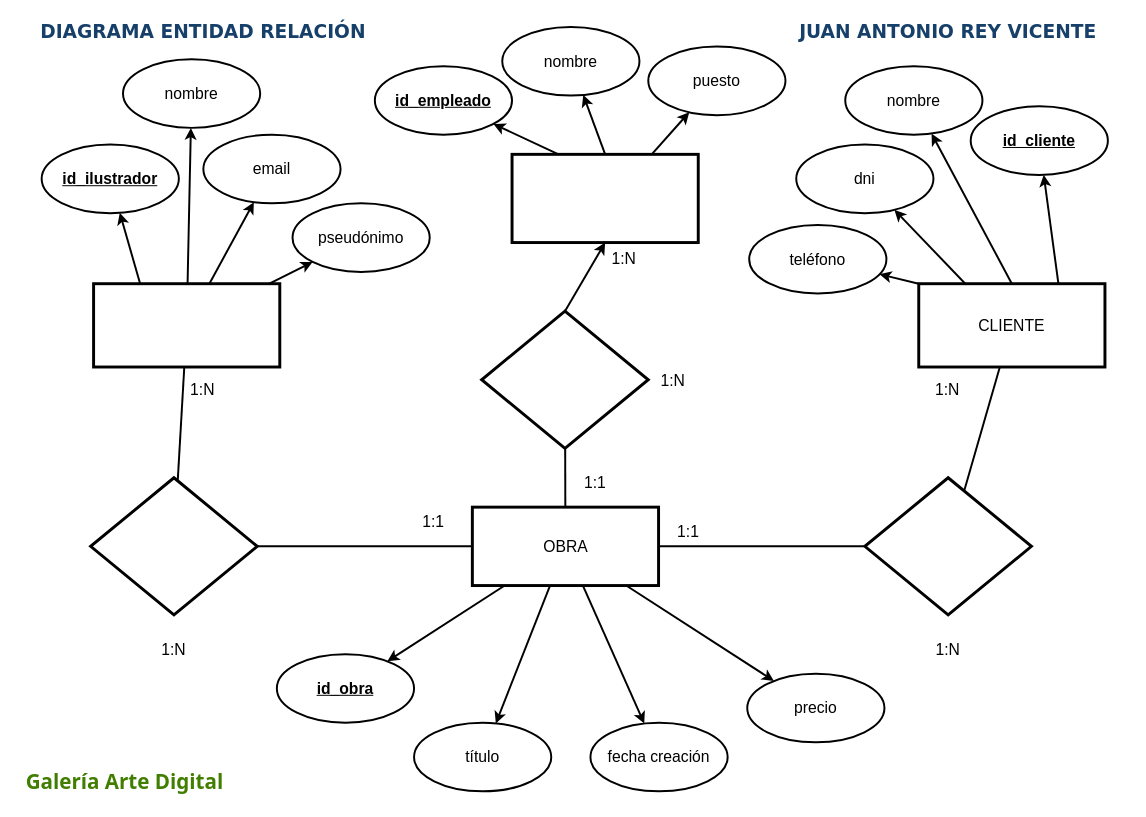
Some shapes in this 1146 by 817 pixel diagram are drawn without their labels. Here are the shapes that lost their labels. From the top down, the box of each, then its label:
(510, 152, 699, 244): EMPLEADO
(92, 282, 281, 368): ILUSTRADOR
(480, 309, 649, 449): GESTIONA
(89, 476, 258, 616): CREA
(863, 476, 1032, 616): ADQUIERE
